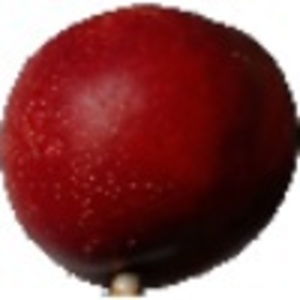nectarina: (1, 2, 300, 299)
